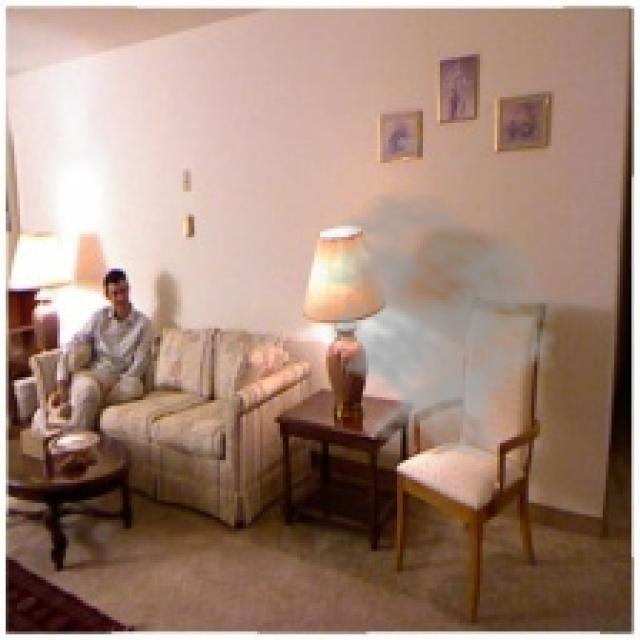smoke: (300, 188, 569, 463)
